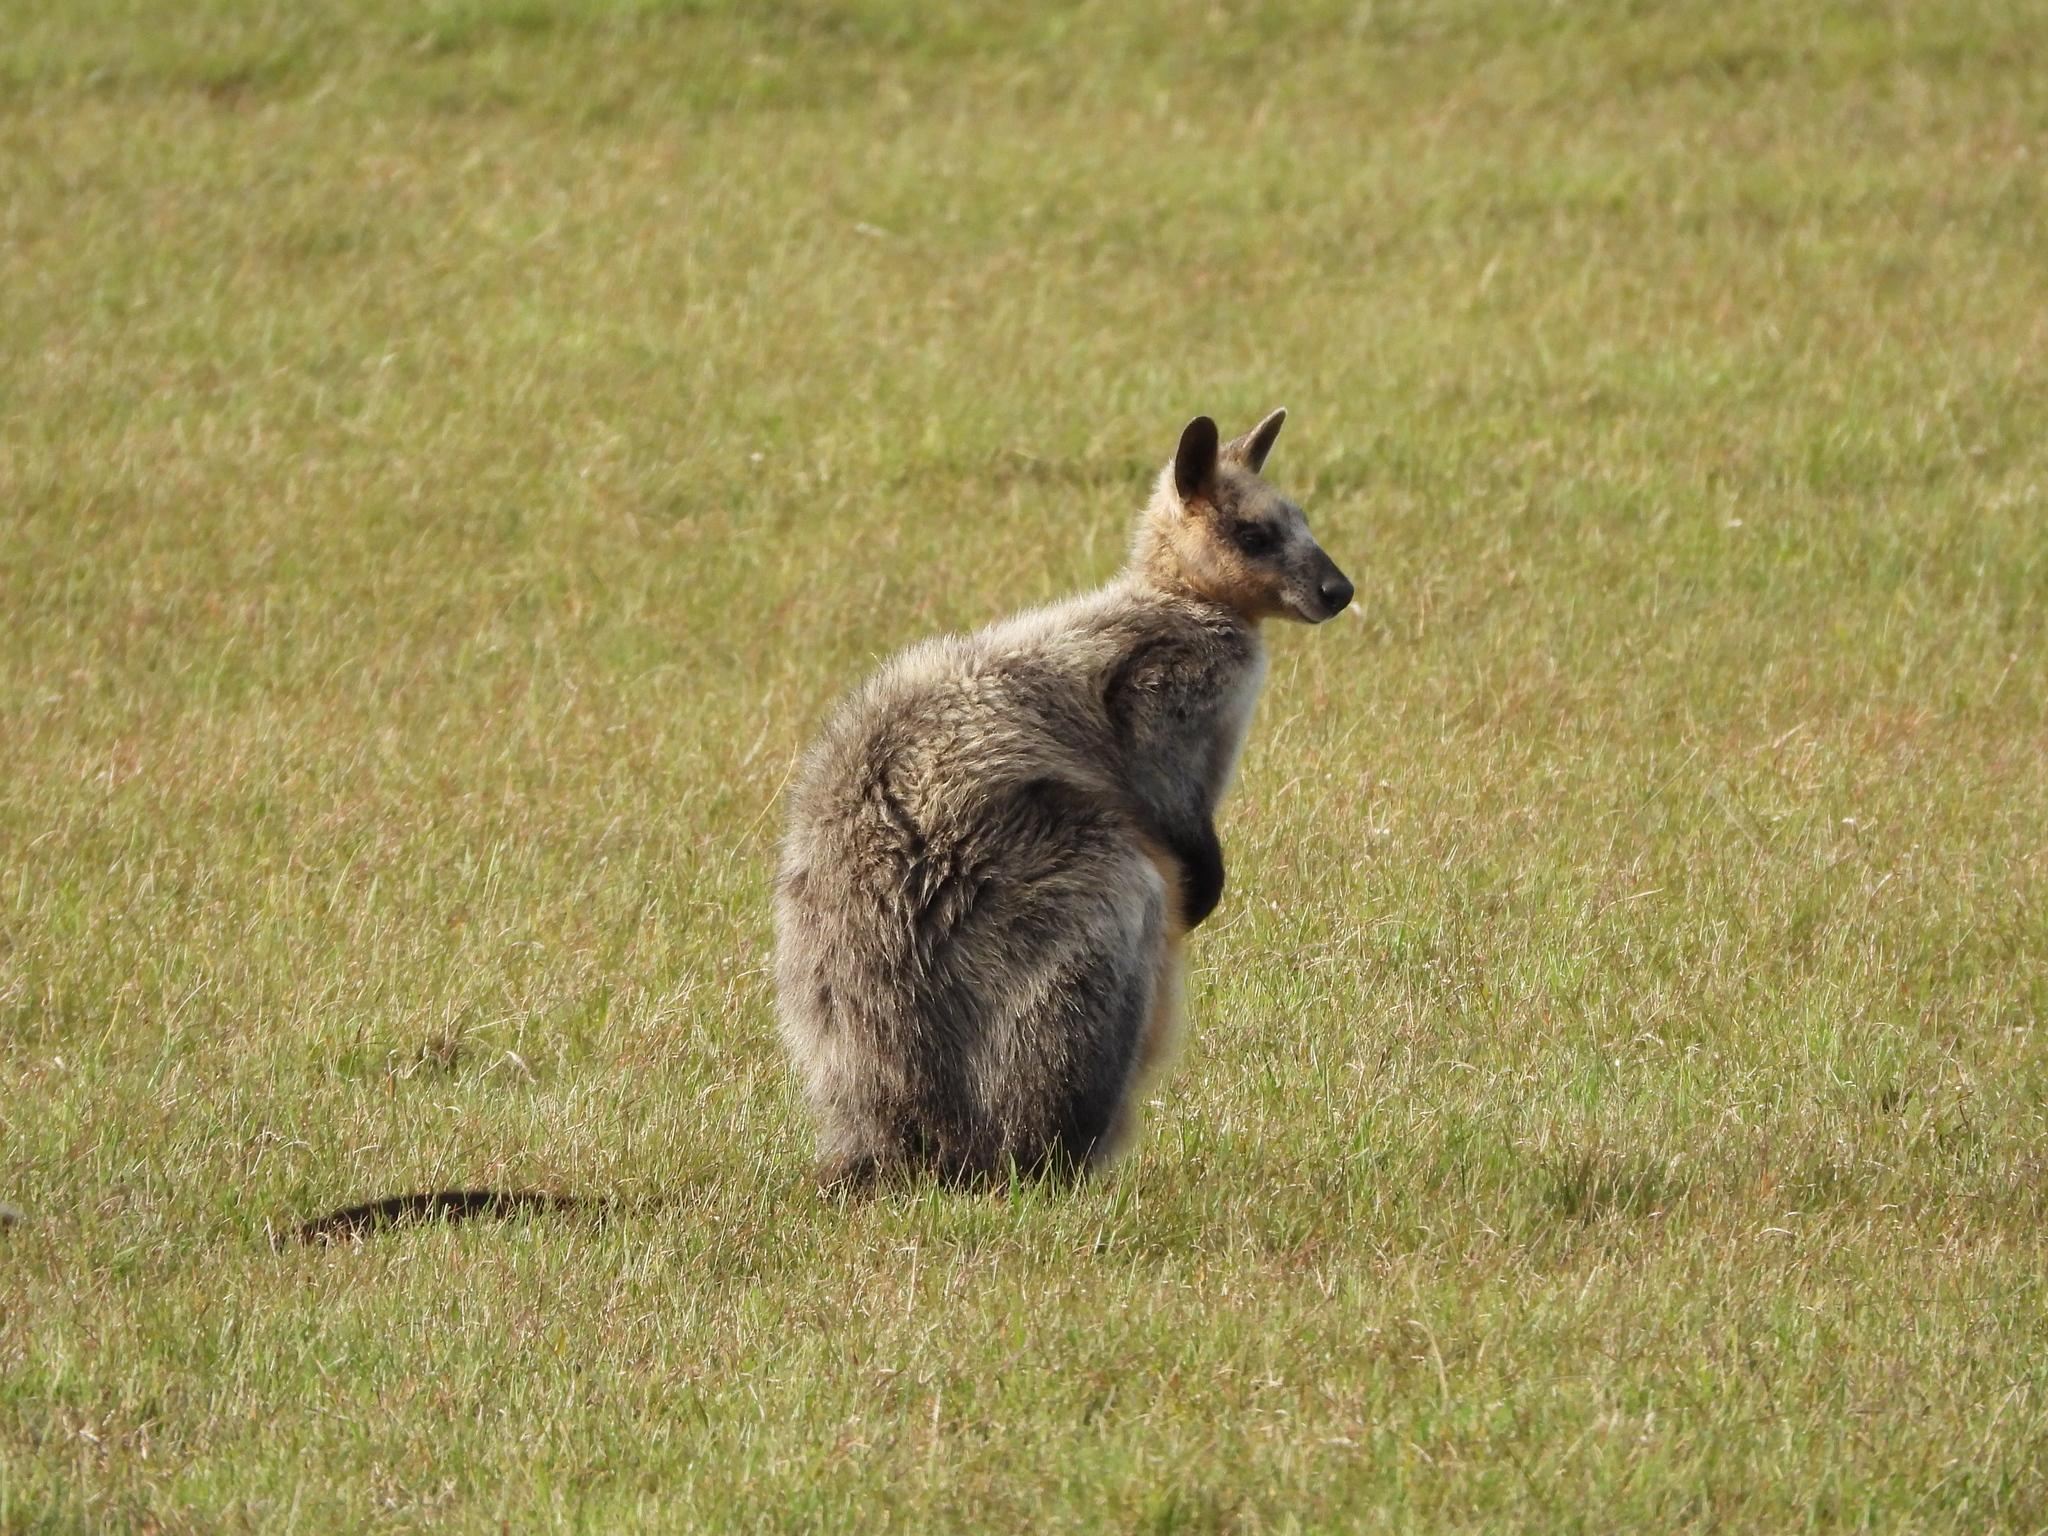Swamp wallaby: (260, 408, 1364, 1270)
